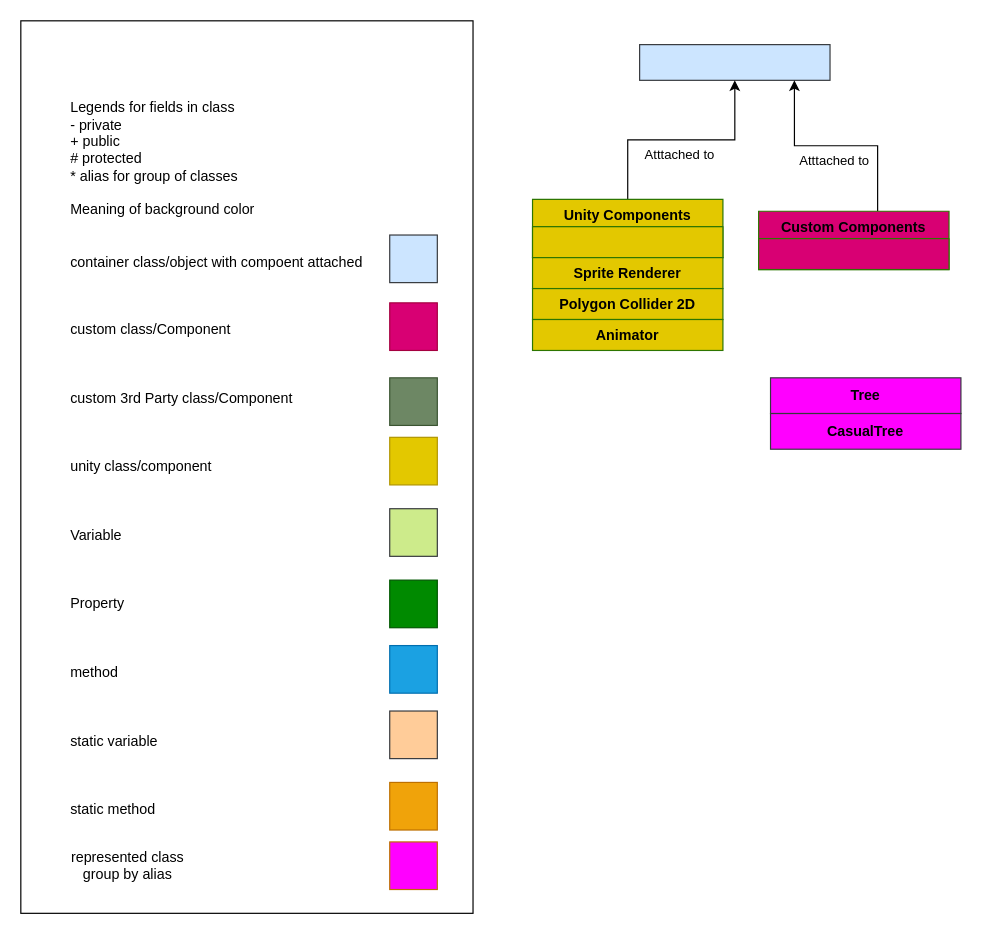
Image size: 982x944. Some labels were removed from this diagram. The box of each missing label's shape, as (x1, y1, x2, y2) in pixels:
Position Renderer Sorter: (757, 237, 949, 270)
Transfrom: (531, 226, 723, 258)
Trees*: (638, 43, 830, 80)
